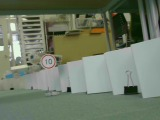speed_10: (38, 53, 57, 70)
